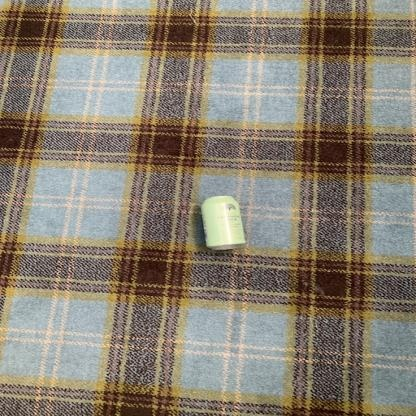trash: (201, 196, 245, 249)
